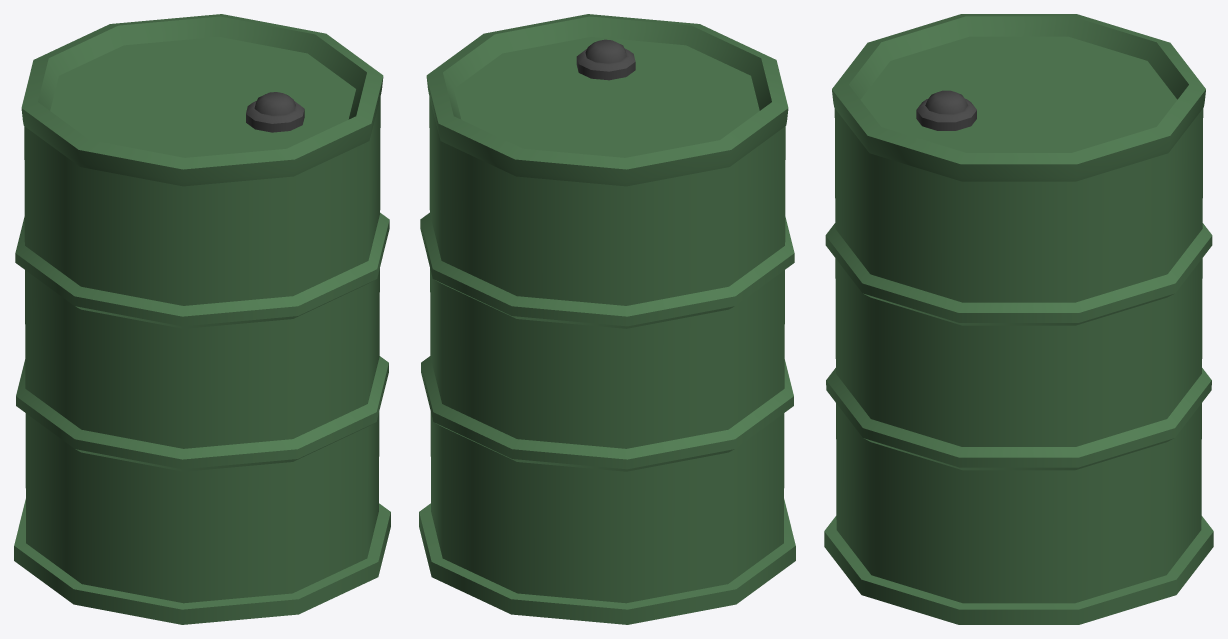
Rendered from MBarrel_3.fbx.
3 renders of one model, left to right at view 1: azimuth 30°, elevation 25°; view 2: azimuth 150°, elevation 25°; view 3: azimuth 270°, elevation 25°, orthographic.
Visible parts, largest first — view 1: MBarrel_3; view 2: MBarrel_3; view 3: MBarrel_3.
Boxes of the visible parts, x1,y1,x2,y2 form: MBarrel_3: [14, 14, 390, 624]; MBarrel_3: [419, 14, 795, 624]; MBarrel_3: [824, 14, 1213, 624].
Bounding box in the file's own units: 0.594 × 0.8333 × 0.6246.
